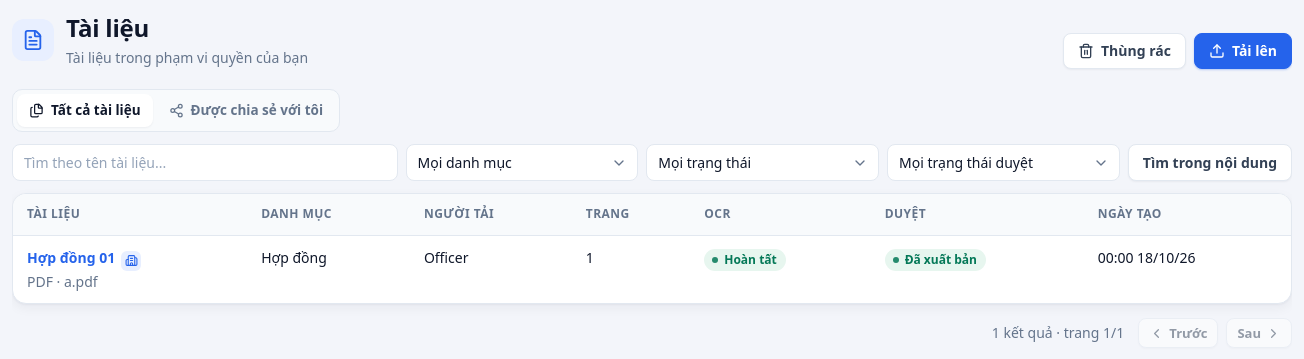
Danh sách tài liệu (FR-07 v0.7) › nút "Được chia sẻ với tôi" lọc qua server và đổi thông báo khi rỗng (FR-13)
Expected: the picture named "Chia sẻ: Nội bộ" is shown, [121,251,141,271]
Click the button "Được chia sẻ với tôi". click: [246, 110]
box: [157,94,335,127]
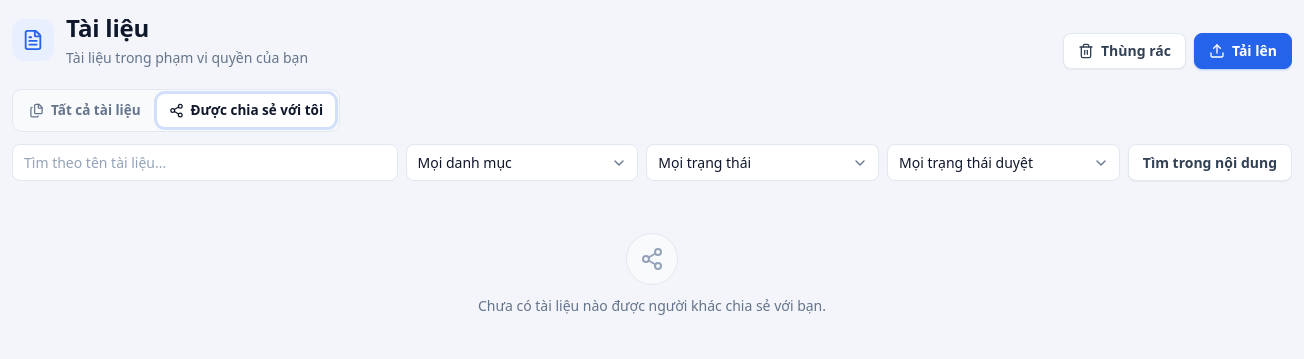
Expected: the text "Chưa có tài liệu nào được người khác chia sẻ với bạn." is shown, [478,296,826,317]
